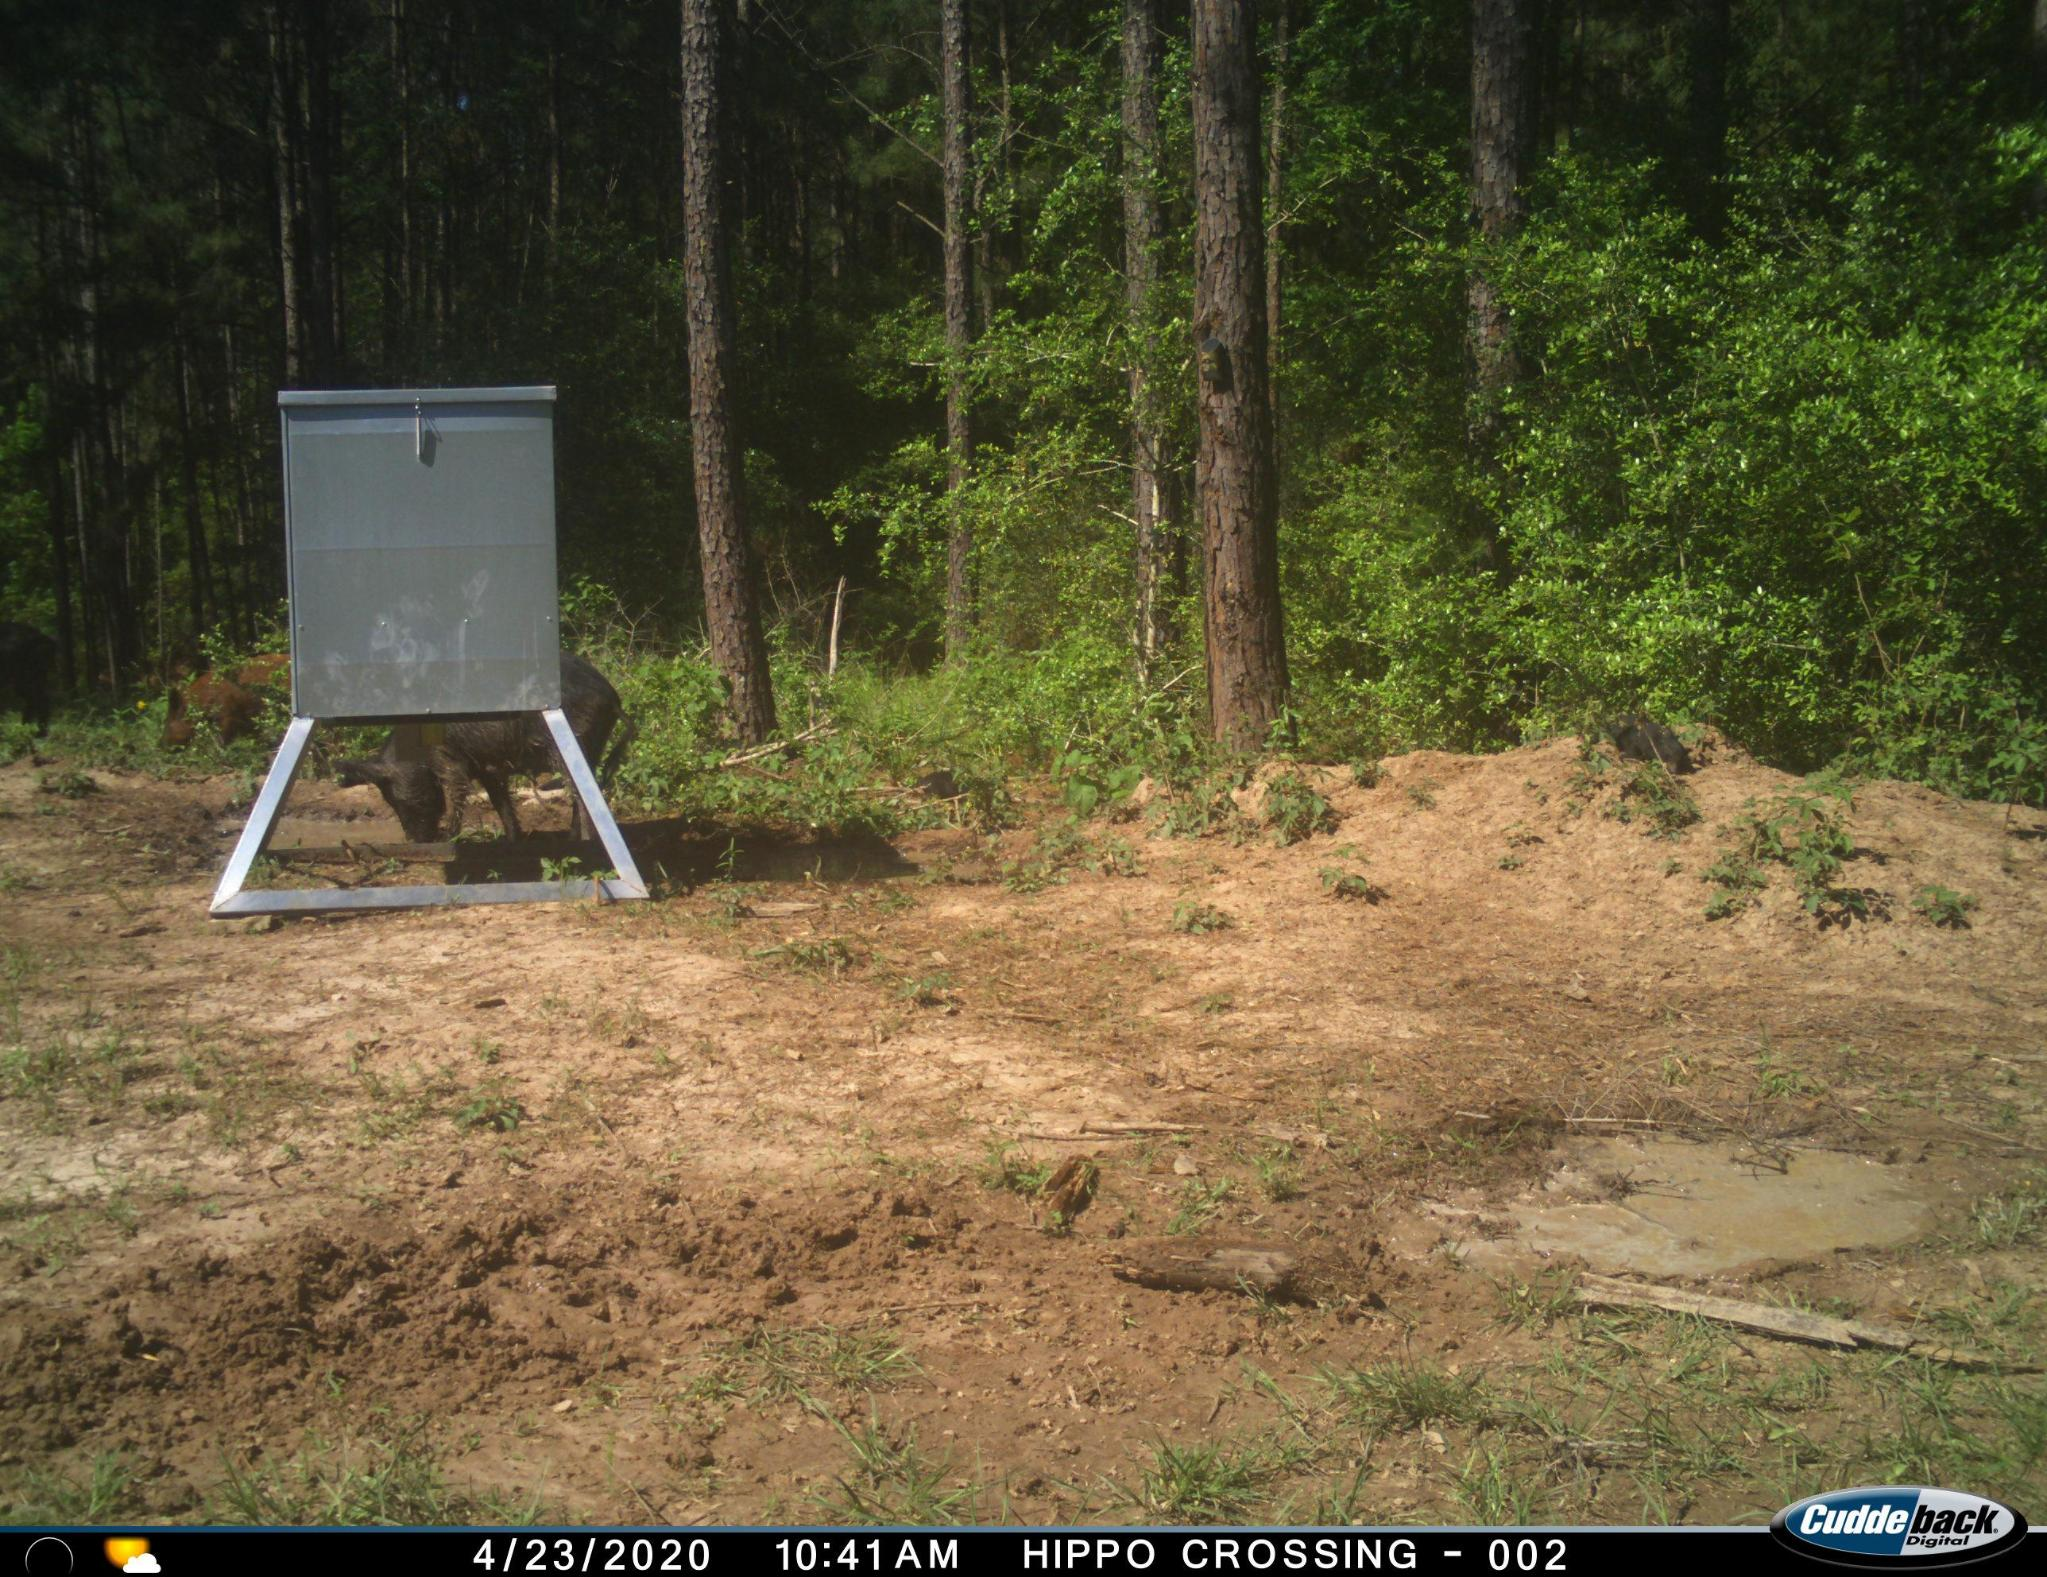Hog: (335, 714, 639, 851), (151, 641, 290, 779)
